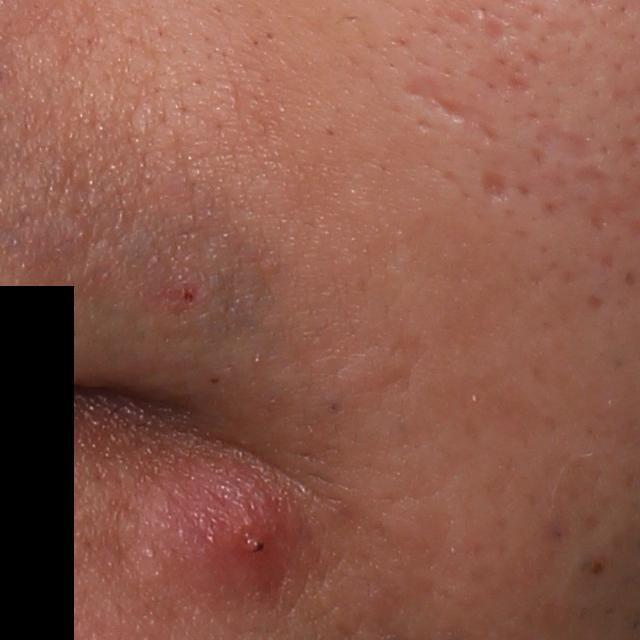atrophic_scar: (407, 69, 476, 124), (539, 123, 605, 161), (544, 16, 593, 43), (477, 165, 508, 201), (482, 13, 514, 46)
